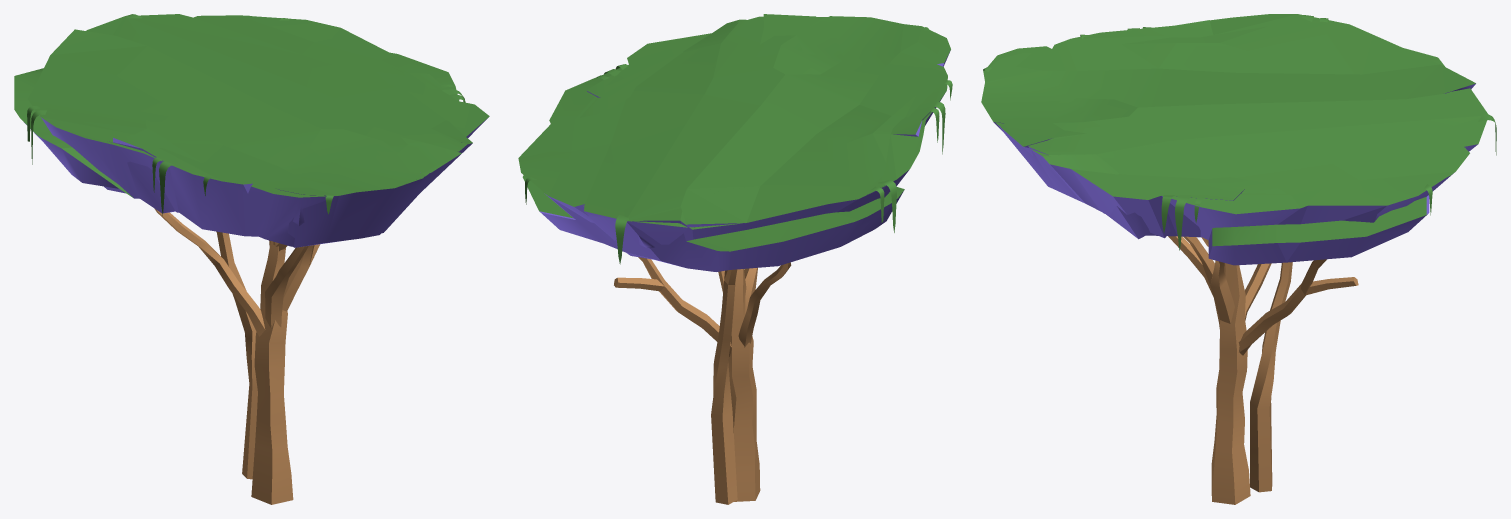
File: tree_D_canopy_C_solo.fbx
3 views of the same model, side by side, from view 1: azimuth 30°, elevation 25°; view 2: azimuth 150°, elevation 25°; view 3: azimuth 270°, elevation 25° (orthographic). The views are drawn at different scales.
Parts seen in each view (by area): view 1: tree_D_canopy_C_extruded, tree_D_canopy_C, tree_D_canopy_C_trunk_A, tree_D_canopy_C_trunk_C, tree_D_canopy_C_trunk_F, tree_D_canopy_C_trunk_E, tree_D_canopy_C_trunk_G; view 2: tree_D_canopy_C_extruded, tree_D_canopy_C, tree_D_canopy_C_trunk_A, tree_D_canopy_C_trunk_C, tree_D_canopy_C_trunk_D, tree_D_canopy_C_trunk_F; view 3: tree_D_canopy_C_extruded, tree_D_canopy_C, tree_D_canopy_C_trunk_A, tree_D_canopy_C_trunk_C, tree_D_canopy_C_trunk_D, tree_D_canopy_C_trunk_G, tree_D_canopy_C_trunk_F.
Boxes of the visible parts, x1,y1,x2,y2 form: tree_D_canopy_C_extruded: (14,15,489,247); tree_D_canopy_C: (28,14,472,246); tree_D_canopy_C_trunk_A: (251,241,293,504); tree_D_canopy_C_trunk_C: (216,231,257,479); tree_D_canopy_C_trunk_F: (154,208,265,336); tree_D_canopy_C_trunk_E: (265,246,308,327); tree_D_canopy_C_trunk_G: (282,244,319,311); tree_D_canopy_C_extruded: (519,16,939,271); tree_D_canopy_C: (518,14,950,259); tree_D_canopy_C_trunk_A: (728,269,760,501); tree_D_canopy_C_trunk_C: (711,269,737,504); tree_D_canopy_C_trunk_D: (614,257,731,356); tree_D_canopy_C_trunk_F: (738,262,791,347); tree_D_canopy_C_extruded: (981,14,1488,265); tree_D_canopy_C: (982,14,1488,239); tree_D_canopy_C_trunk_A: (1211,263,1250,504); tree_D_canopy_C_trunk_C: (1250,262,1292,492); tree_D_canopy_C_trunk_D: (1238,259,1358,355); tree_D_canopy_C_trunk_G: (1183,236,1234,323); tree_D_canopy_C_trunk_F: (1244,263,1271,320).
Size of the model in its own units: 572 by 586 by 690.
